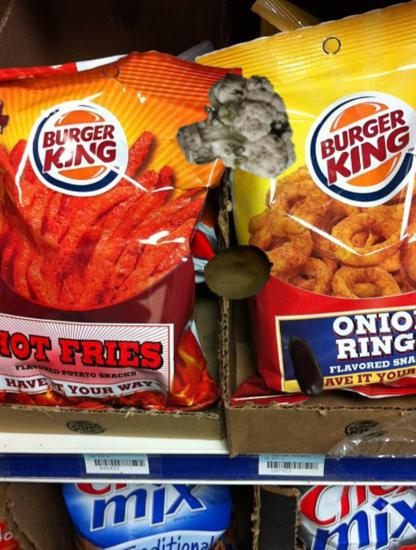Cauliflower: (174, 72, 295, 193)
Eggplant: (269, 329, 340, 400)
Papaya: (204, 237, 273, 306)
